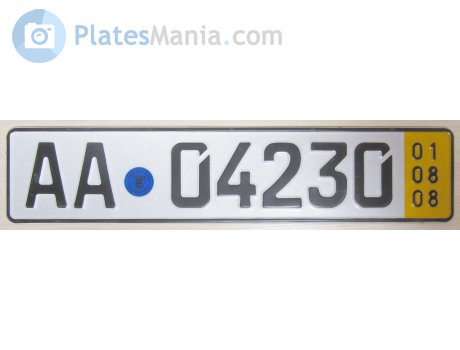License Plates: (30, 142, 392, 210)
